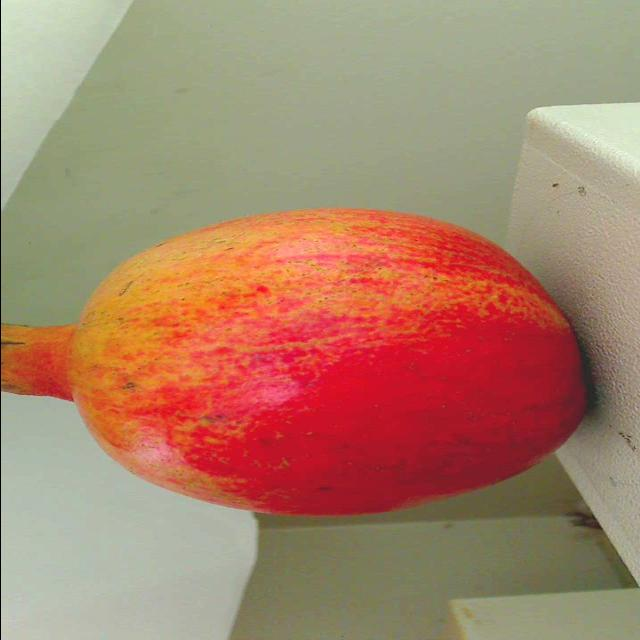pomegranate: (0, 199, 599, 526)
